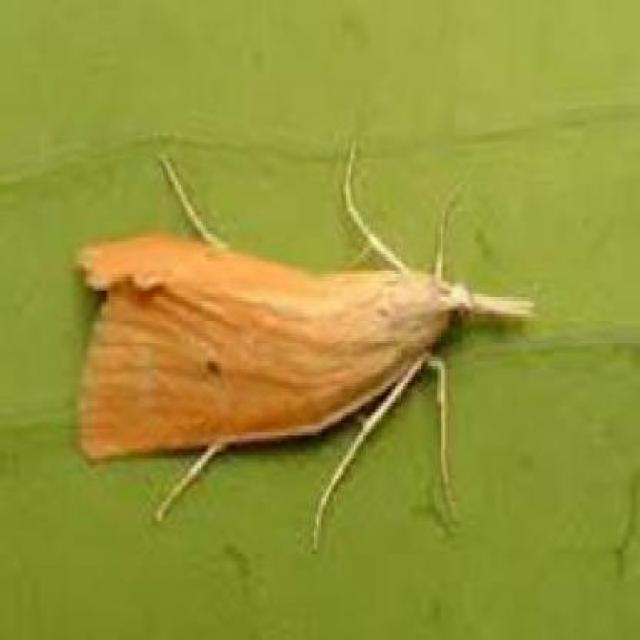stem-borer: (69, 146, 537, 554)
